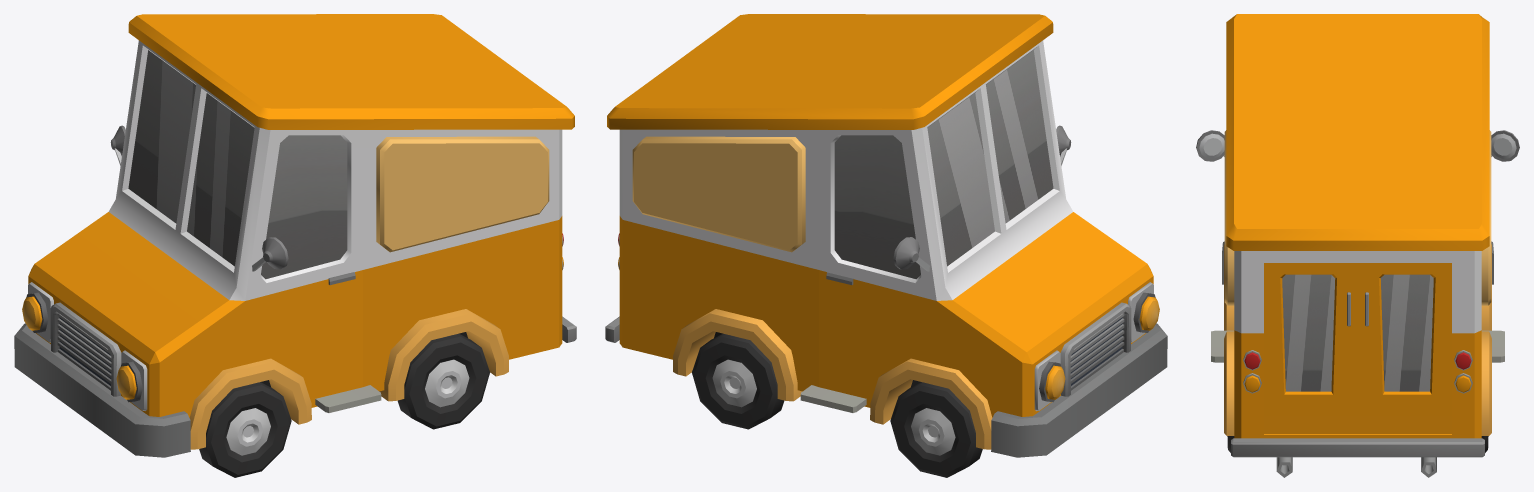
File: Car_15_D.gltf
The picture shows the model from 3 angles, left to right: view 1: azimuth 30°, elevation 25°; view 2: azimuth 150°, elevation 25°; view 3: azimuth 270°, elevation 25°; orthographic projection. The views are drawn at different scales.
Visible parts, largest first — view 1: Car_15_D, RL, FL; view 2: Car_15_D, RR, FR; view 3: Car_15_D.
Boxes of the visible parts, x1=… form: Car_15_D: x1=14, y1=14, x2=576, y2=457; RL: x1=397, y1=333, x2=489, y2=429; FL: x1=199, y1=382, x2=291, y2=477; Car_15_D: x1=605, y1=14, x2=1167, y2=457; RR: x1=692, y1=333, x2=784, y2=429; FR: x1=890, y1=382, x2=982, y2=477; Car_15_D: x1=1196, y1=14, x2=1519, y2=477.
Bounding box in the file's own units: 2.75 × 2.13 × 1.8.
4 materials, 4 textured.
